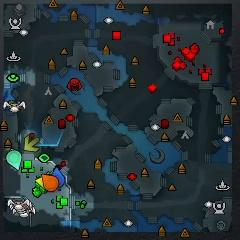p1: (52, 167, 65, 188)
p2: (7, 149, 22, 170)
p4: (36, 175, 44, 189)
p5: (41, 174, 59, 192)
x2: (24, 135, 40, 152)
